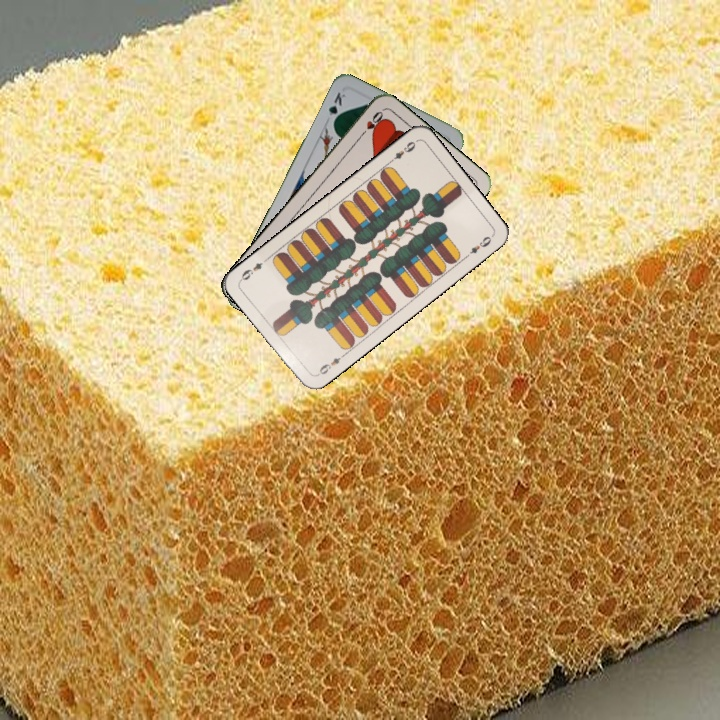E9: (312, 350, 348, 379), (385, 137, 419, 166)
GK: (322, 87, 349, 127)
HO: (355, 107, 386, 141)
